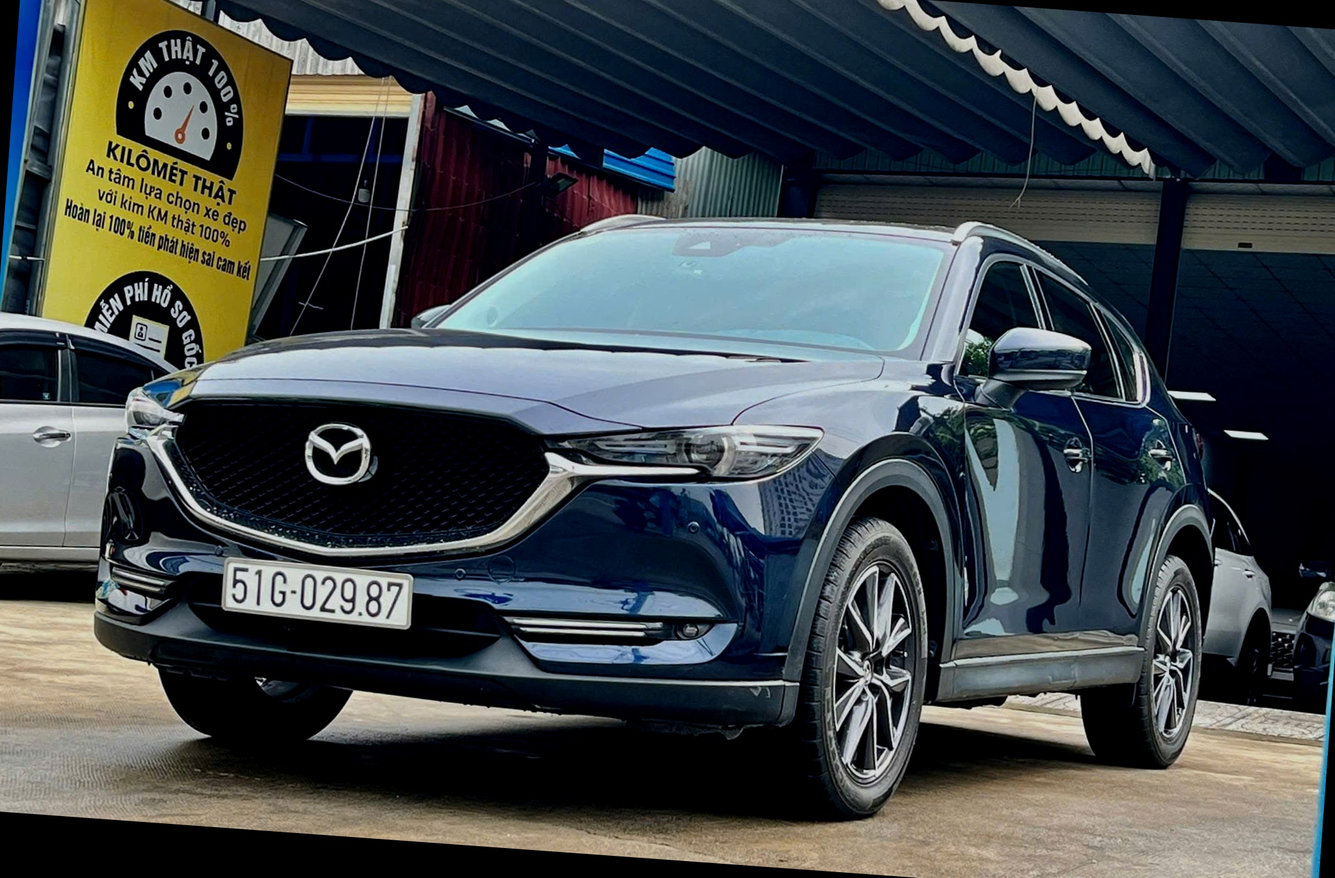Bien-so: (246, 610, 434, 685)
